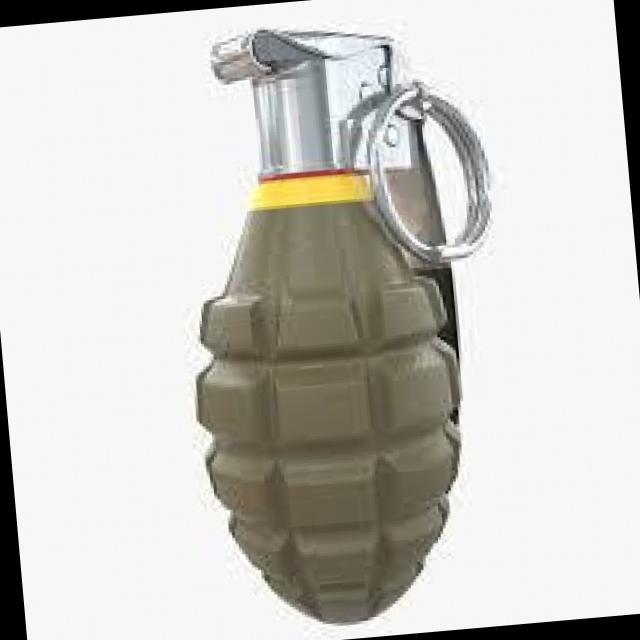grenade: (157, 6, 540, 626)
